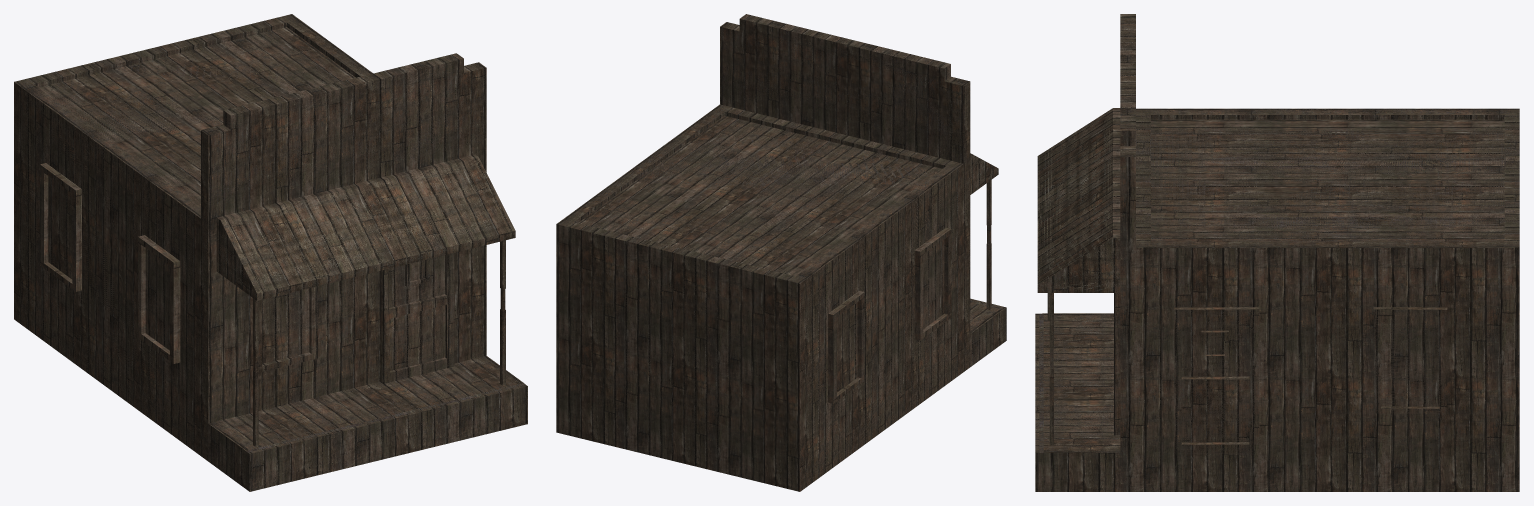
The model's file is House 8 Ex.fbx.
The picture shows the model from 3 angles, left to right: view 1: azimuth 30°, elevation 25°; view 2: azimuth 150°, elevation 25°; view 3: azimuth 270°, elevation 25°; orthographic projection. The views are drawn at different scales.
Parts seen in each view (by area): view 1: Model; view 2: Model; view 3: Model.
Part boxes in pixels (box(x1,y1,x2,y2)): Model: box(14, 14, 527, 491); Model: box(556, 14, 1006, 491); Model: box(1035, 14, 1519, 491).
Size of the model in its own units: 33.27 by 37.39 by 46.92.
